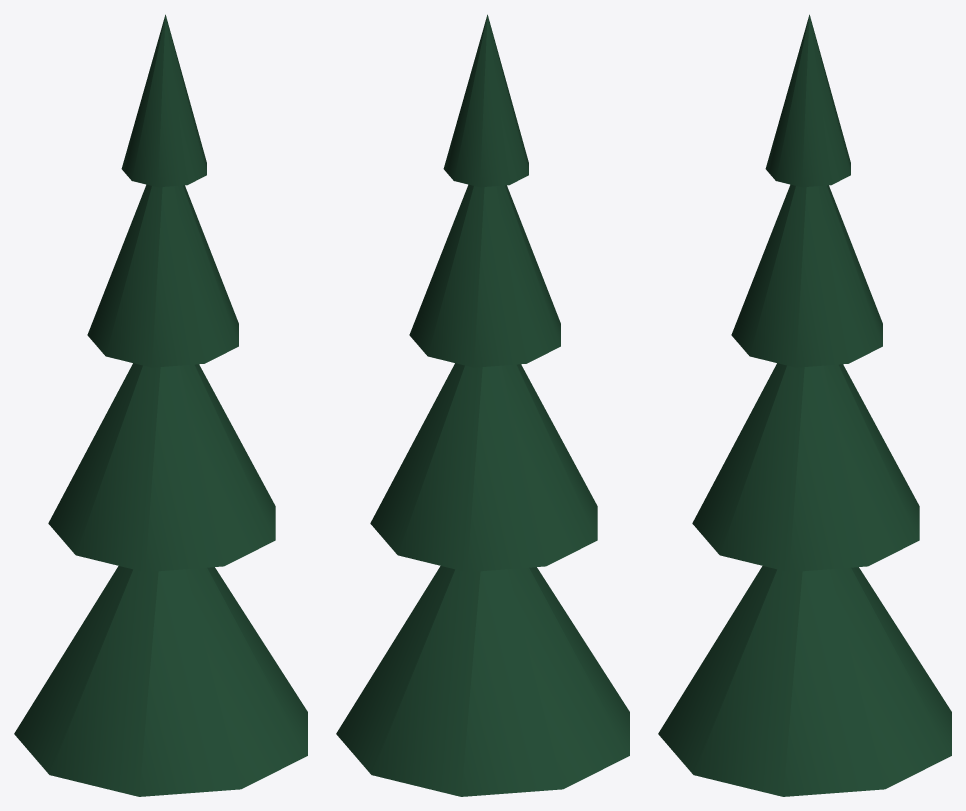
Rendered from cypress.glb.
3 renders of one model, left to right at view 1: azimuth 30°, elevation 25°; view 2: azimuth 150°, elevation 25°; view 3: azimuth 270°, elevation 25°, orthographic.
Visible parts, largest first — view 1: Cypress; view 2: Cypress; view 3: Cypress.
Part boxes in pixels (x1,y1,x2,y2): Cypress: (14, 14, 307, 796); Cypress: (336, 14, 629, 796); Cypress: (658, 14, 951, 796).
Bounding box in the file's own units: 1.22 × 3.37 × 1.2.
